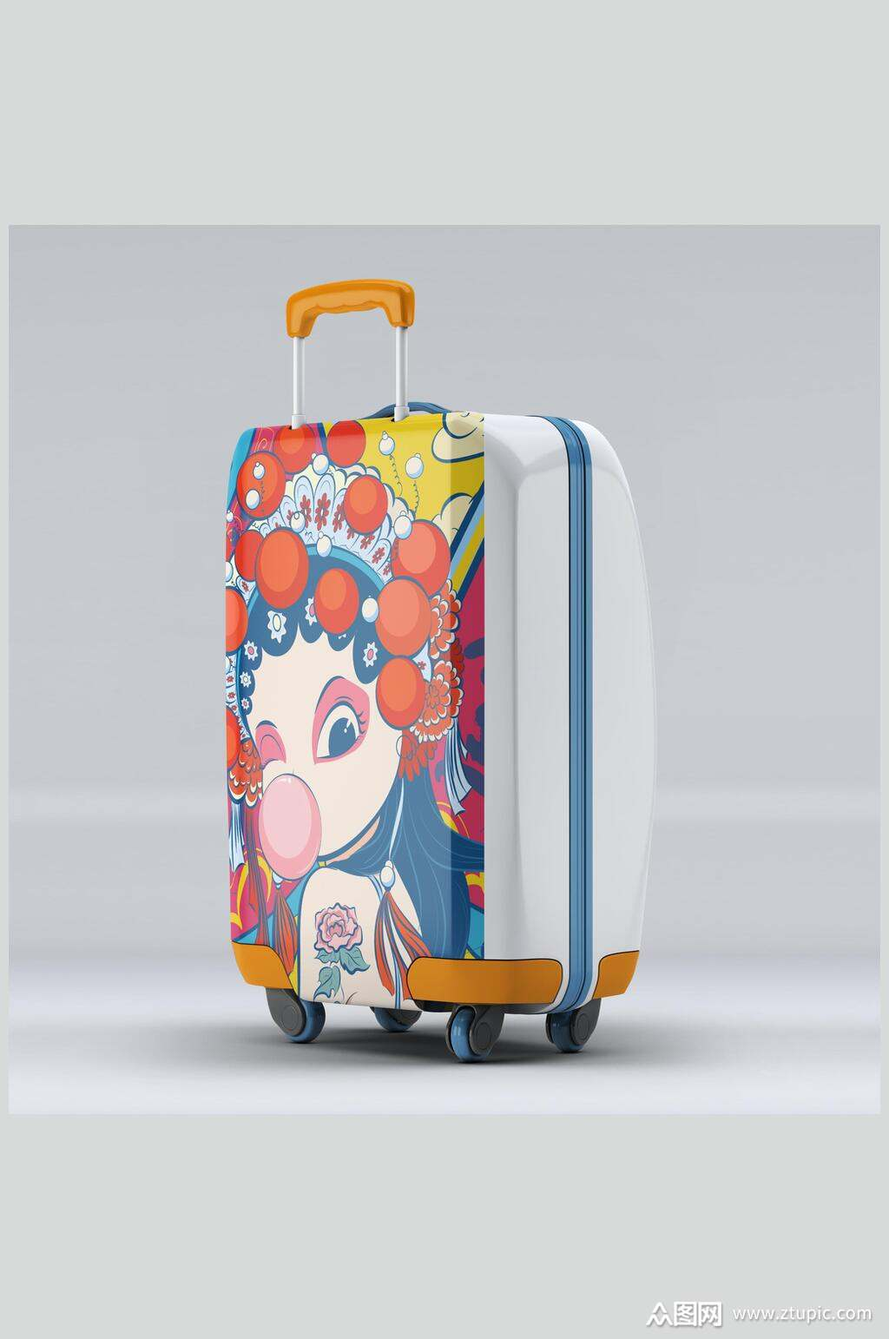box: (226, 413, 658, 1015)
handle: (358, 400, 451, 415)
wheel: (444, 1006, 504, 1062), (275, 998, 326, 1044), (545, 1013, 598, 1052), (371, 1007, 422, 1032)
